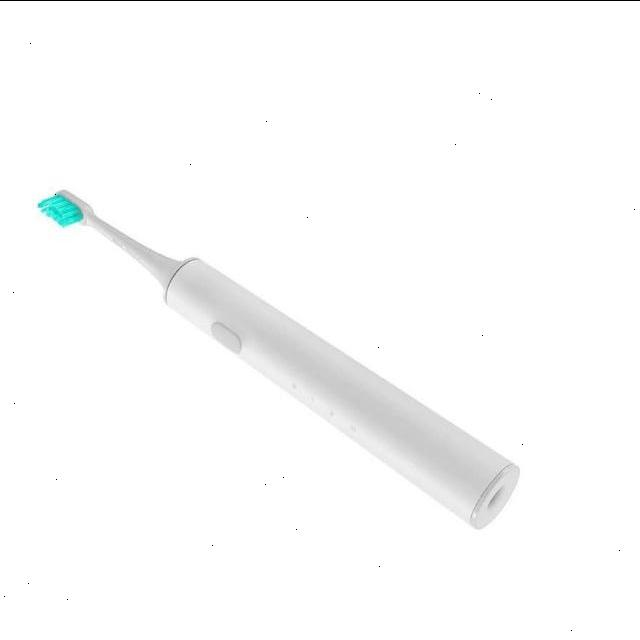toothbrush: (36, 178, 544, 524)
